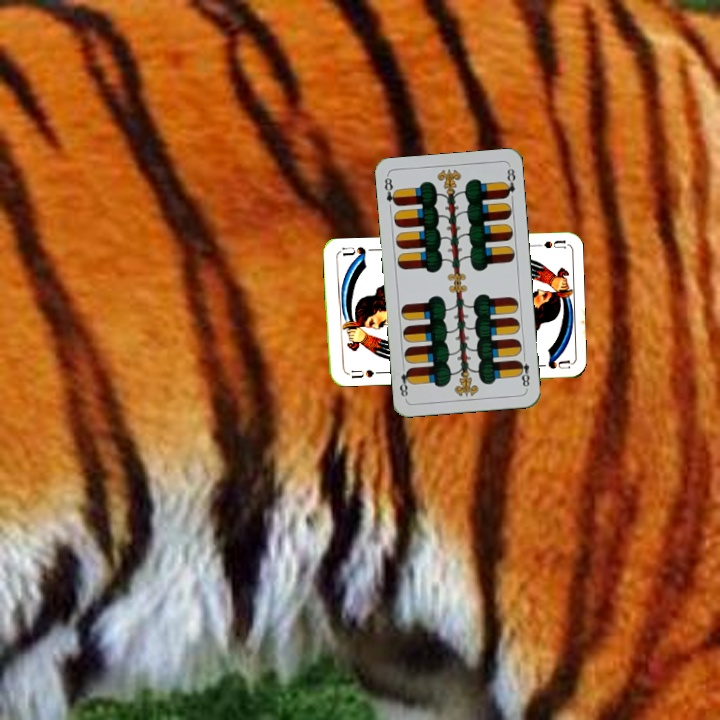E8: (514, 351, 532, 391), (380, 173, 400, 208)
SU: (526, 236, 567, 251), (347, 366, 376, 381)
